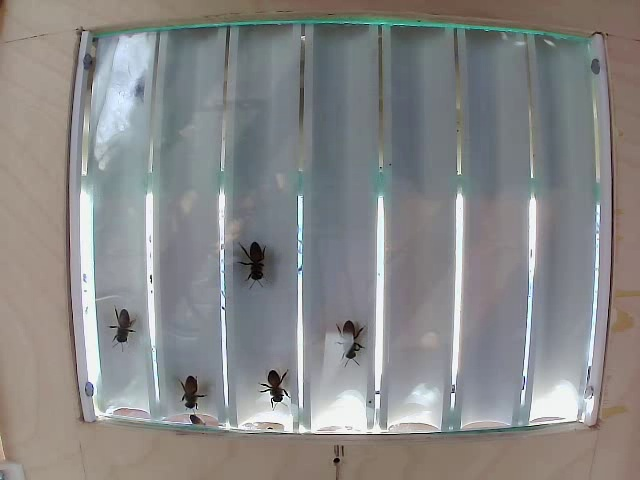bee: (228, 234, 291, 291), (336, 309, 380, 372), (97, 312, 140, 346), (270, 373, 305, 409), (176, 378, 210, 405)
